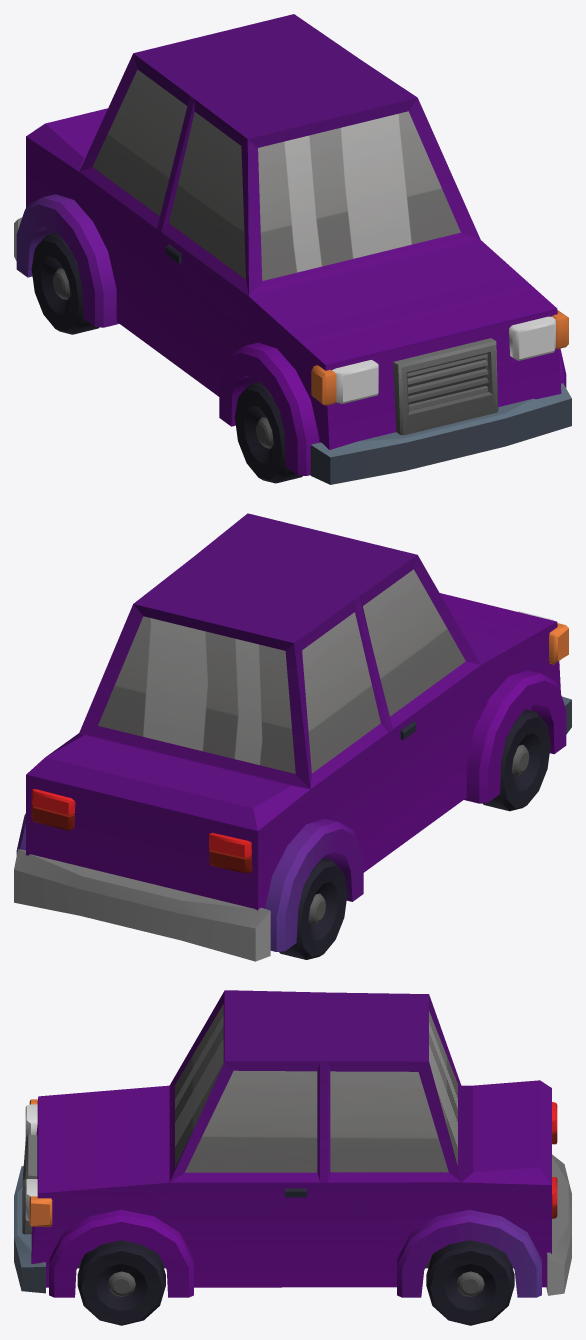
Rendered from Car_2_1.glb.
3 views of the same model, one above another, from view 1: azimuth 30°, elevation 25°; view 2: azimuth 150°, elevation 25°; view 3: azimuth 270°, elevation 25° (orthographic). The views are drawn at different scales.
Visible parts, largest first — view 1: Car_2_1, W_BR, W_FR; view 2: Car_2_1, W_FR, W_BR; view 3: Car_2_1, W_BL, W_FL.
Part boxes in pixels (box(x1,y1,x2,y2)): Car_2_1: box(14, 14, 571, 484); W_BR: box(31, 232, 99, 334); W_FR: box(235, 381, 302, 483); Car_2_1: box(14, 513, 571, 961); W_FR: box(482, 709, 550, 811); W_BR: box(279, 858, 347, 959); Car_2_1: box(14, 990, 571, 1297); W_BL: box(426, 1240, 514, 1325); W_FL: box(77, 1240, 165, 1325).
Size of the model in its own units: 1.09 by 1.11 by 2.28.
5 materials, 5 textured.
